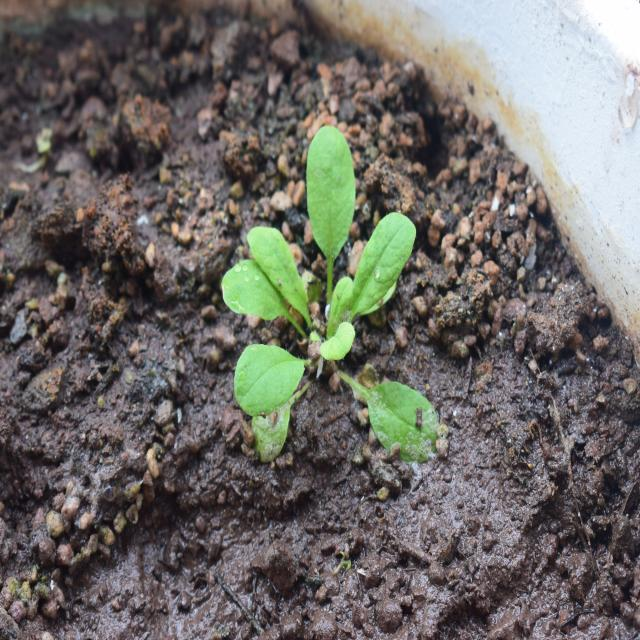Shepherd_Purse: (210, 108, 446, 460)
